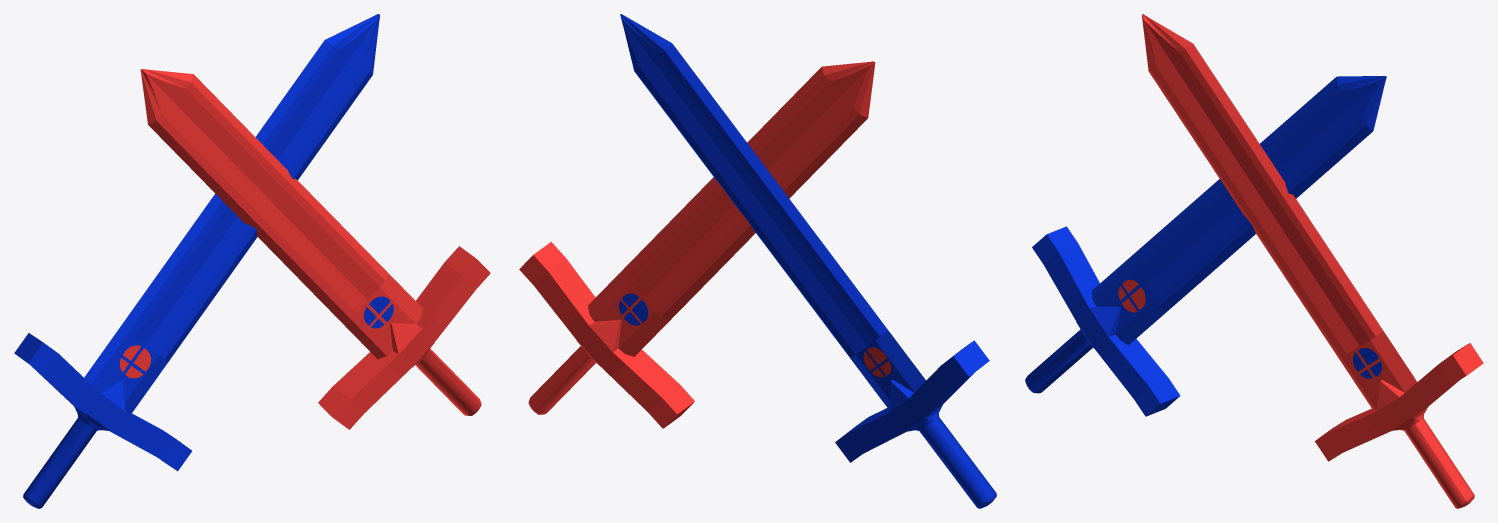
The model's file is SwordModel_Smash.fbx.
3 renders of one model, left to right at view 1: azimuth 30°, elevation 25°; view 2: azimuth 150°, elevation 25°; view 3: azimuth 330°, elevation 25°, orthographic. The views are drawn at different scales.
Parts seen in each view (by area): view 1: Cube.001, Cube; view 2: Cube.001, Cube; view 3: Cube.001, Cube.
Boxes of the visible parts, <box> form: Cube.001: <box>140,69,490,429</box>; Cube: <box>14,14,379,508</box>; Cube.001: <box>519,61,875,428</box>; Cube: <box>620,14,996,508</box>; Cube.001: <box>1142,14,1483,508</box>; Cube: <box>1025,76,1386,416</box>.
Bounding box in the file's own units: 2992 × 2657 × 387.
